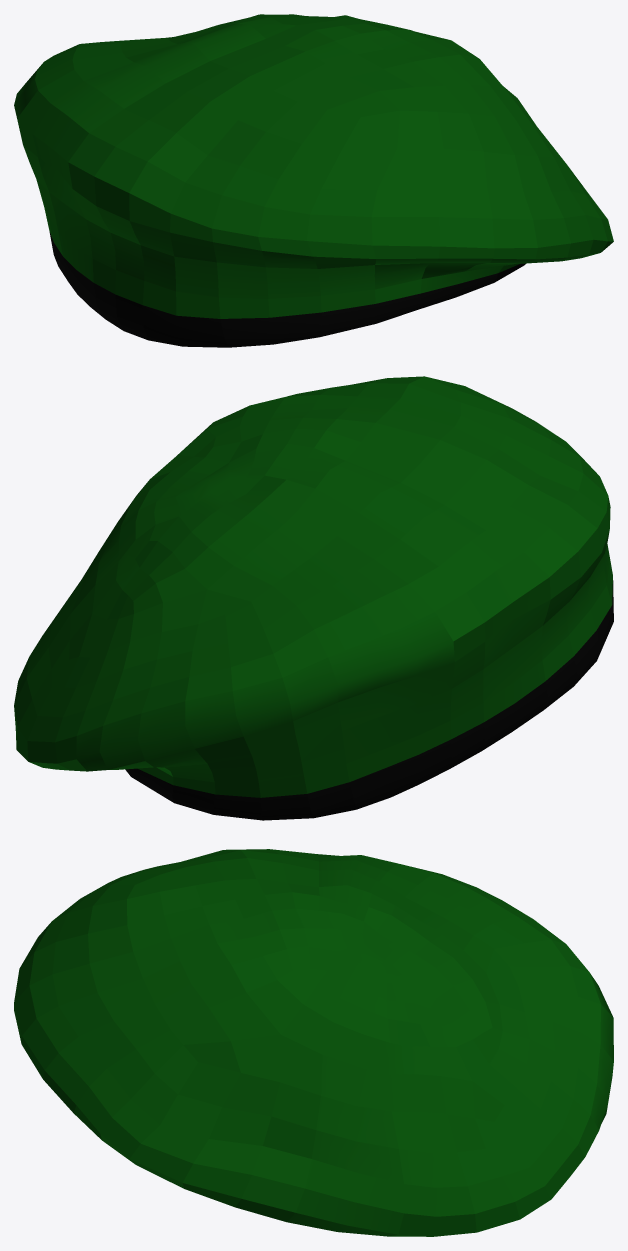
Rendered from Beret_Girl.fbx.
3 views of the same model, one above another, from view 1: azimuth 30°, elevation 25°; view 2: azimuth 150°, elevation 25°; view 3: azimuth 270°, elevation 25° (orthographic). The views are drawn at different scales.
Visible parts, largest first — view 1: Beret; view 2: Beret; view 3: Beret.
Part boxes in pixels (box(x1,y1,x2,y2)): Beret: box(14, 14, 613, 347); Beret: box(14, 376, 613, 820); Beret: box(14, 849, 613, 1236).
Bounding box in the file's own units: 62.38 × 35.15 × 75.36.
